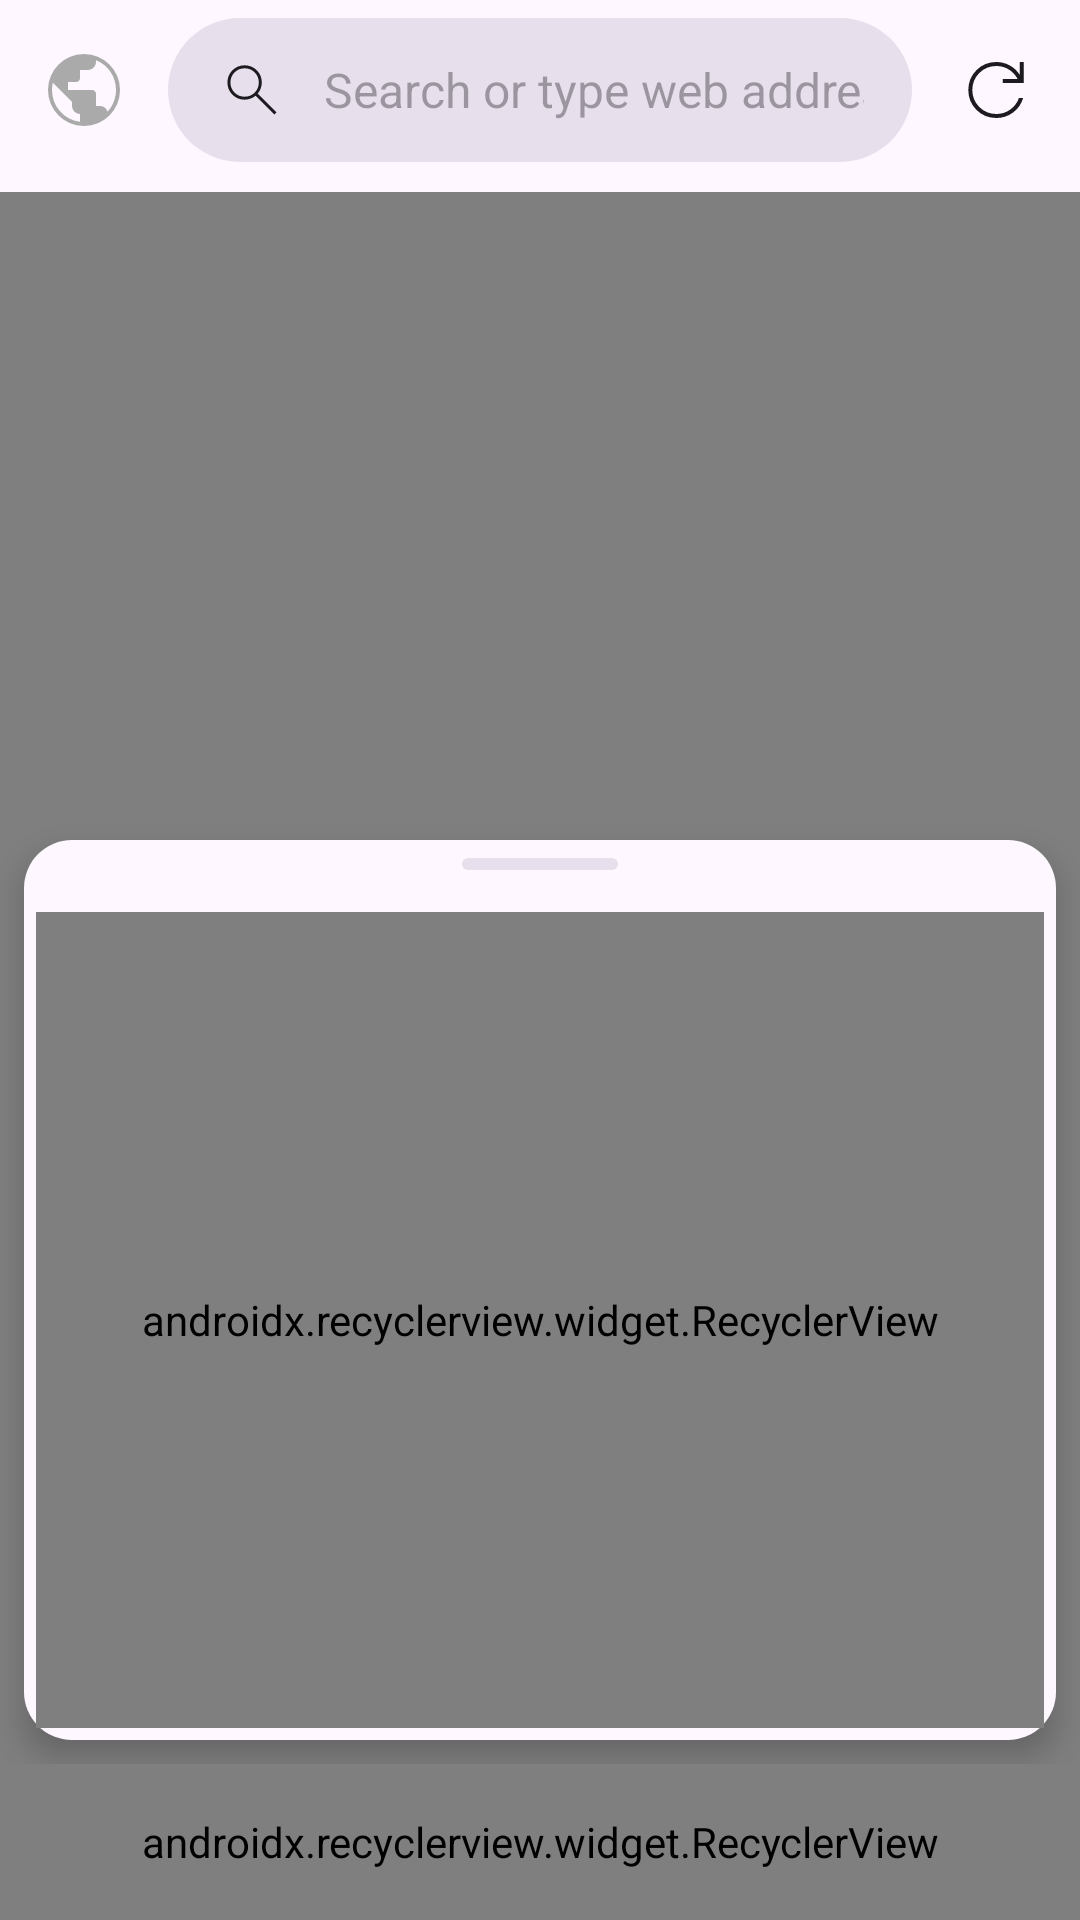

Icons on this 1080*1920 Android screen, each with its box as (x1, y1, x2, y2):
favicon: (48, 54, 120, 126)
